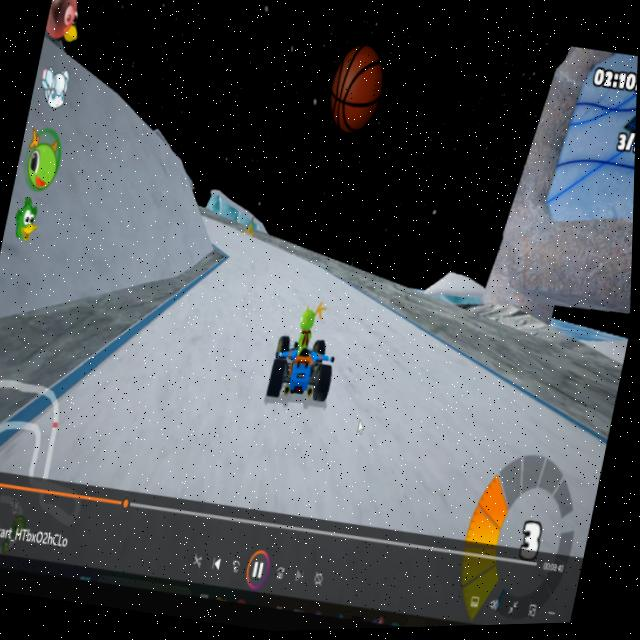obstacle: (237, 219, 264, 247)
player_kart: (261, 296, 349, 423)
track: (224, 235, 345, 305)
